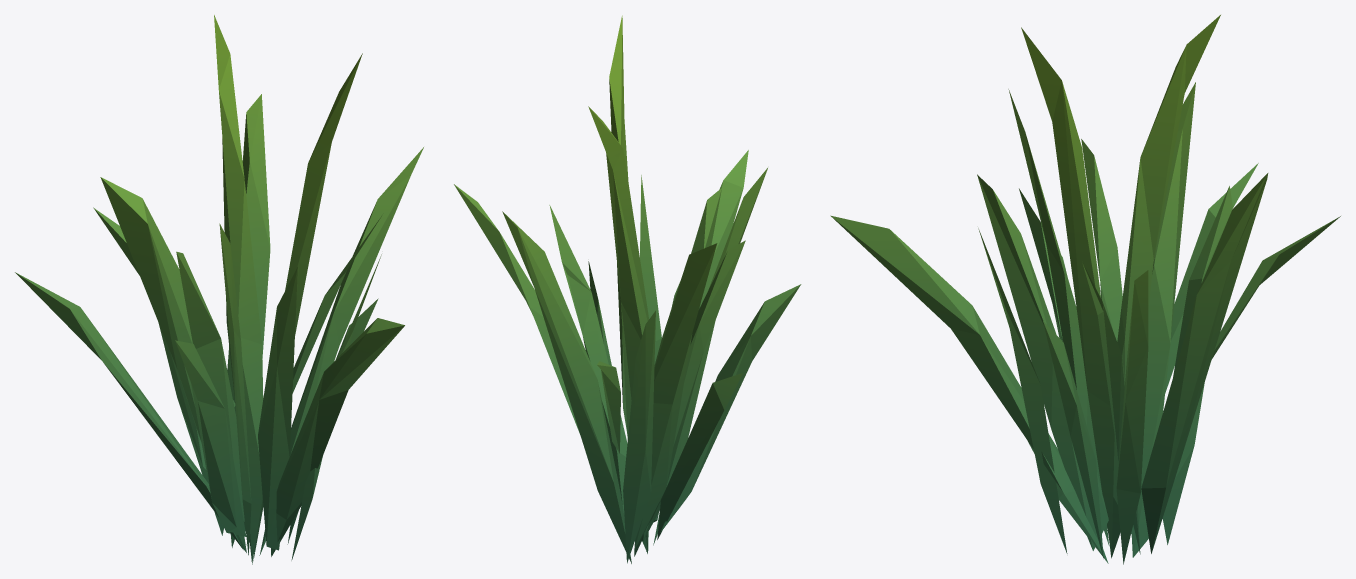
The model's file is ZLP_Grass_A_8.FBX.
3 renders of one model, left to right at view 1: azimuth 30°, elevation 25°; view 2: azimuth 150°, elevation 25°; view 3: azimuth 270°, elevation 25°, orthographic. The views are drawn at different scales.
Parts seen in each view (by area): view 1: ZLP_Grass_A_8; view 2: ZLP_Grass_A_8; view 3: ZLP_Grass_A_8.
Part boxes in pixels (x1=…): ZLP_Grass_A_8: x1=15, y1=15, x2=423, y2=564; ZLP_Grass_A_8: x1=454, y1=15, x2=801, y2=563; ZLP_Grass_A_8: x1=830, y1=15, x2=1340, y2=564.
Size of the model in its own units: 73.64 by 103 by 84.16.
